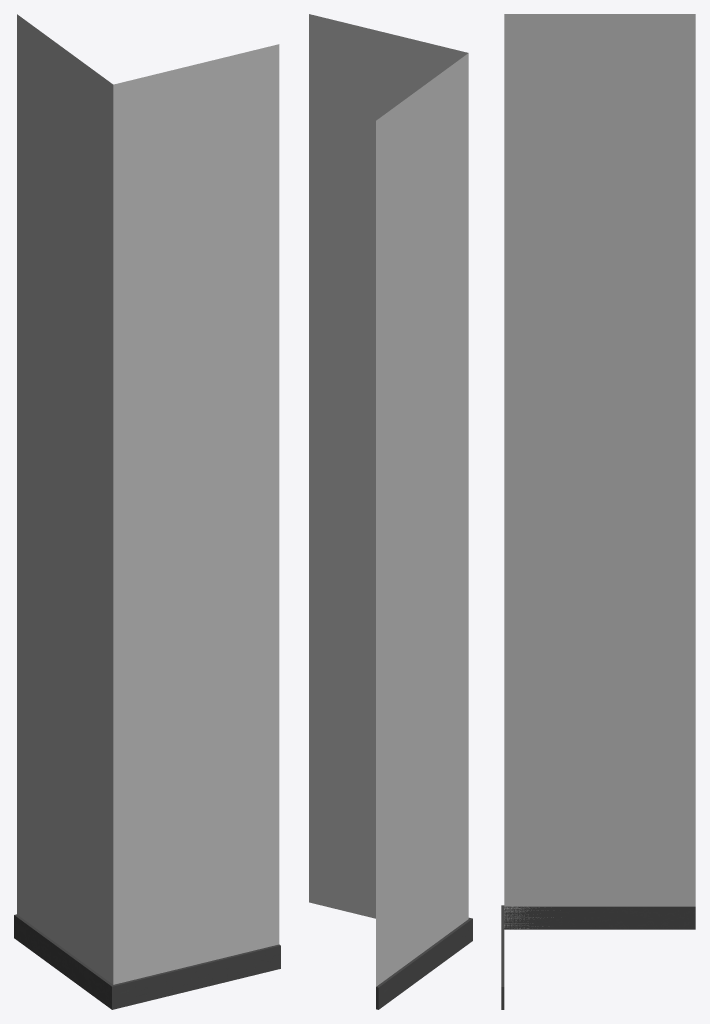
Rendered from SM_检查室_柱子_01.fbx.
The picture shows the model from 3 angles, left to right: view 1: azimuth 30°, elevation 25°; view 2: azimuth 150°, elevation 25°; view 3: azimuth 270°, elevation 25°; orthographic projection. The views are drawn at different scales.
Visible parts, largest first — view 1: SM_检查室_柱子_01; view 2: SM_检查室_柱子_01; view 3: SM_检查室_柱子_01.
Part boxes in pixels (x1,y1,x2,y2): SM_检查室_柱子_01: (14, 14, 280, 1009); SM_检查室_柱子_01: (309, 14, 472, 1009); SM_检查室_柱子_01: (501, 14, 695, 1009).
Size of the model in its own units: 608 by 3180 by 612.
